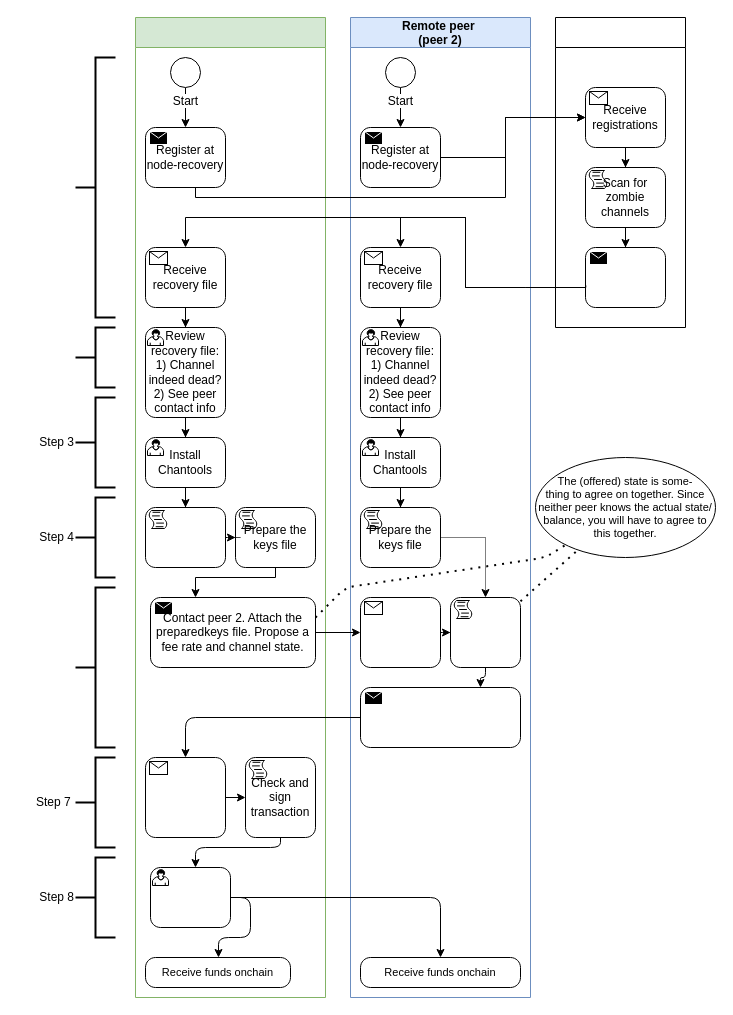
This 733x1015 diagram has some shape labels left out. The box of each missing label's shape, as (x1, y1, x2, y2) in pixels:
Broadcast transaction: (150, 866, 230, 928)
Get bitcoin address: (144, 506, 226, 568)
Initiator peer (peer 1): (134, 16, 326, 998)
Make offer: (450, 596, 520, 668)
Node-recovery .com: (554, 16, 686, 328)
Notify peers: (584, 246, 666, 308)
Receive information: (360, 596, 440, 668)
Receive offer: (144, 756, 226, 838)
Send offer (PSBT) to peer 1: (360, 686, 520, 748)
Step 1 (Optional): (74, 56, 116, 318)
Step 2: (74, 326, 116, 388)
Step 5 & 6: (74, 586, 116, 748)
